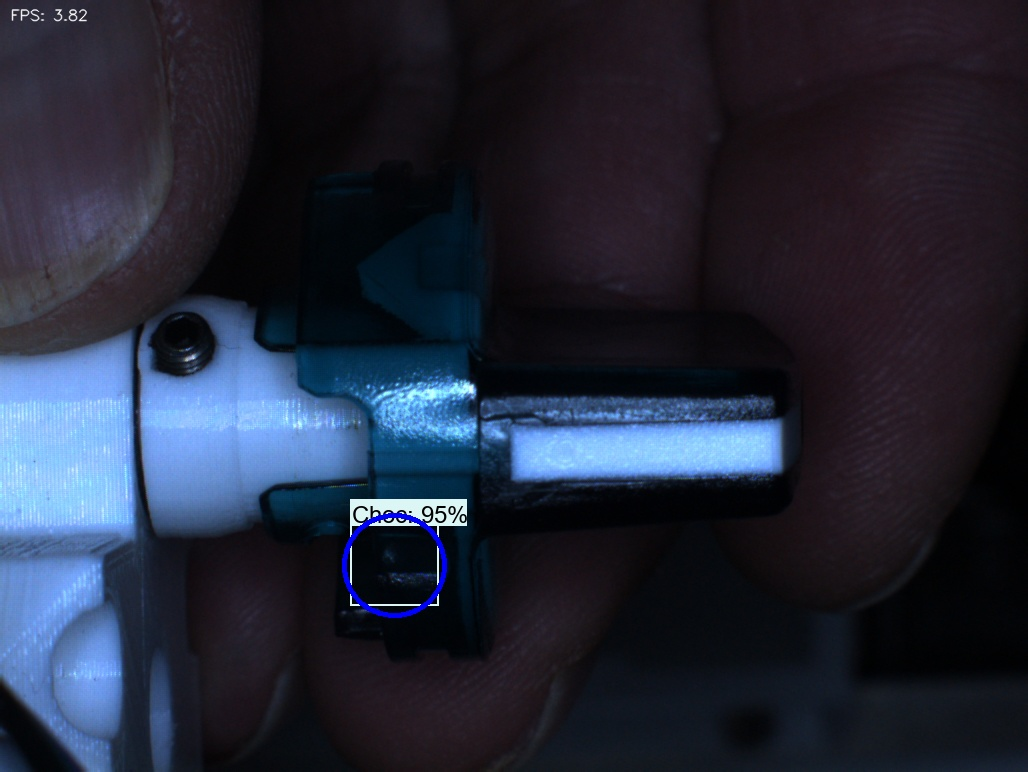DentOk: (325, 224, 407, 332)
